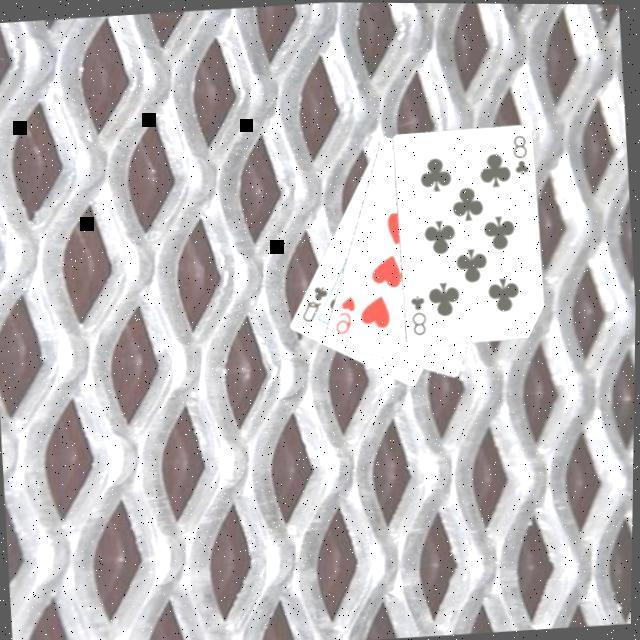8C: (509, 131, 535, 178), (409, 291, 433, 338)
9H: (332, 291, 364, 339)
QC: (298, 282, 335, 326)
